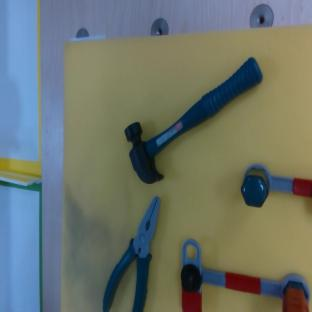part_1_bad: (241, 166, 312, 207)
pass: (181, 240, 311, 312)
